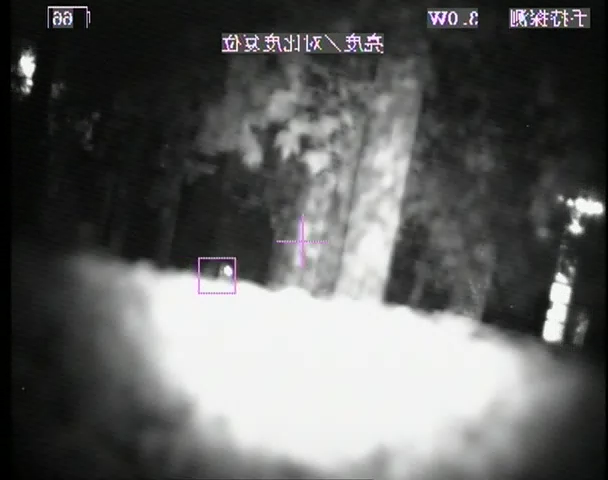my: (222, 263, 235, 277)
